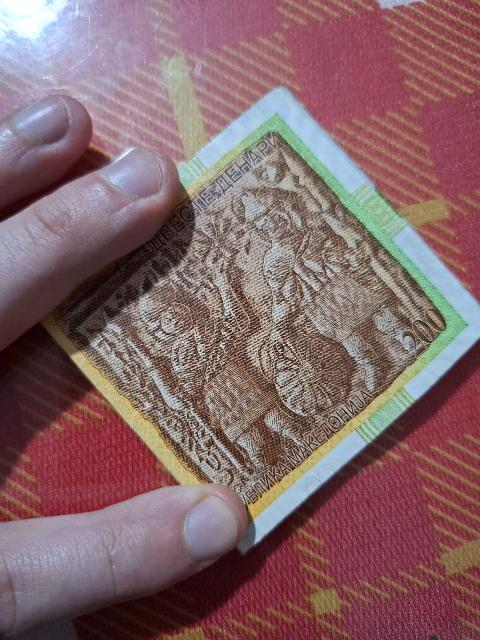200_note: (44, 90, 479, 551)
